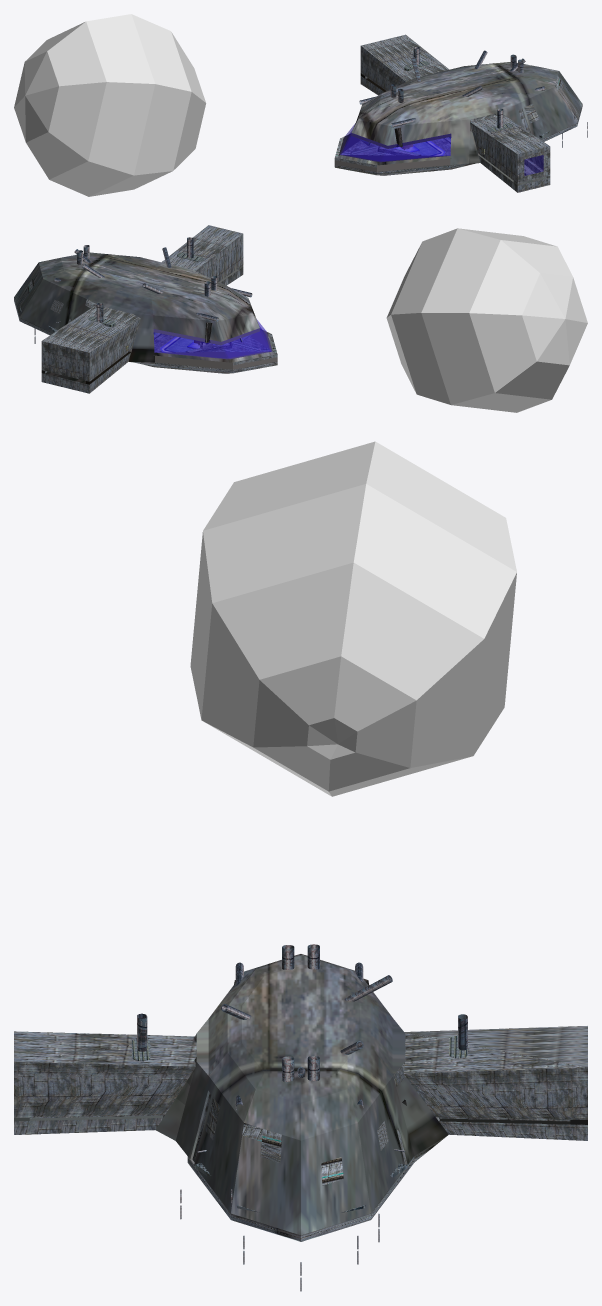
File: ship (1).fbx
3 renders of one model, top to bottom at view 1: azimuth 30°, elevation 25°; view 2: azimuth 150°, elevation 25°; view 3: azimuth 270°, elevation 25°, orthographic. The views are drawn at different scales.
Parts seen in each view (by area): view 1: Sphere.001, ship, steeringfloor; view 2: Sphere.001, ship, steeringfloor; view 3: Sphere.001, ship.
Part boxes in pixels (left/top/right/bottom): Sphere.001: left=14, top=14, right=206, bottom=196; ship: left=334, top=34, right=582, bottom=192; steeringfloor: left=393, top=141, right=444, bottom=155; Sphere.001: left=386, top=228, right=587, bottom=412; ship: left=14, top=225, right=277, bottom=393; steeringfloor: left=160, top=336, right=214, bottom=352; Sphere.001: left=190, top=441, right=516, bottom=796; ship: left=14, top=954, right=587, bottom=1241.
Bounding box in the file's own units: 7329 × 2902 × 3548.
